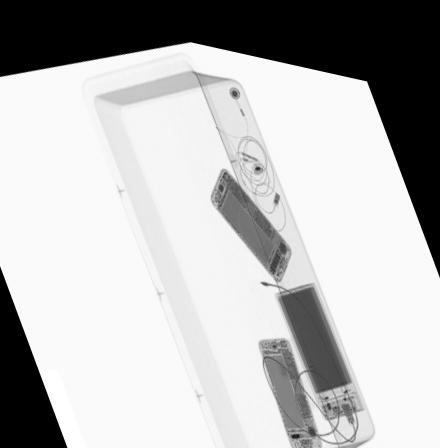Powerbank: (273, 267, 366, 408)
